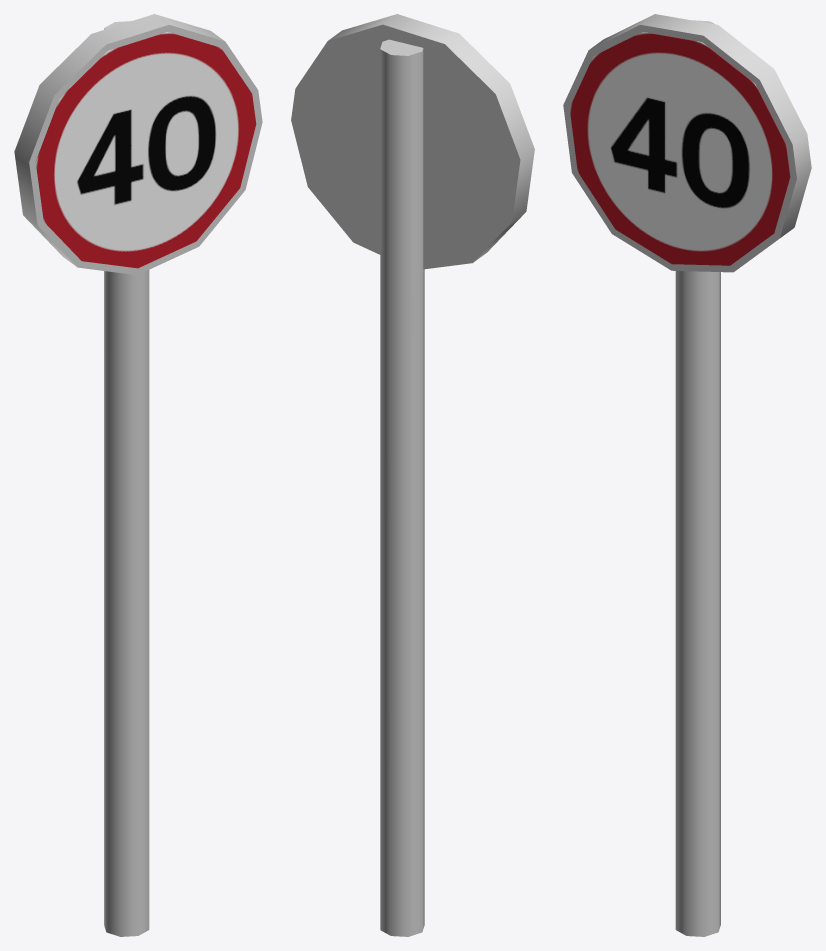
File: MAX.fbx
3 views of the same model, side by side, from view 1: azimuth 30°, elevation 25°; view 2: azimuth 150°, elevation 25°; view 3: azimuth 330°, elevation 25° (orthographic).
Parts seen in each view (by area): view 1: pasted__pasted__pasted__pasted__pasted__layer 7; view 2: pasted__pasted__pasted__pasted__pasted__layer 7; view 3: pasted__pasted__pasted__pasted__pasted__layer 7.
Part boxes in pixels (box(x1,y1,x2,y2)): pasted__pasted__pasted__pasted__pasted__layer 7: box(14, 14, 262, 936); pasted__pasted__pasted__pasted__pasted__layer 7: box(291, 14, 534, 936); pasted__pasted__pasted__pasted__pasted__layer 7: box(563, 14, 811, 936).
Size of the model in its own units: 1.02 by 3.81 by 0.2327.
2 materials, 1 textured.
